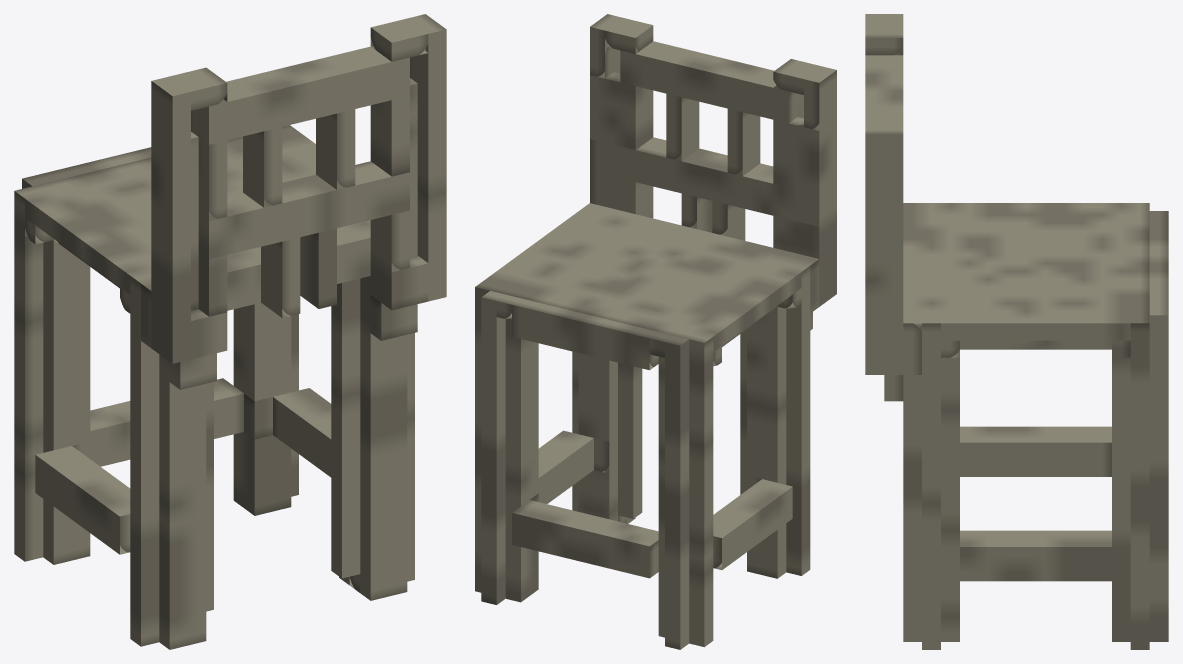
Rendered from krzeslo_01.dae.
The picture shows the model from 3 angles, left to right: view 1: azimuth 30°, elevation 25°; view 2: azimuth 150°, elevation 25°; view 3: azimuth 270°, elevation 25°; orthographic projection. The views are drawn at different scales.
Parts seen in each view (by area): view 1: Content; view 2: Content; view 3: Content.
Boxes of the visible parts, x1,y1,x2,y2 form: Content: [14, 14, 446, 649]; Content: [475, 14, 836, 649]; Content: [865, 14, 1168, 649].
Bounding box in the file's own units: 15 × 30 × 16.
Materials: 1 (1 with a texture image).
